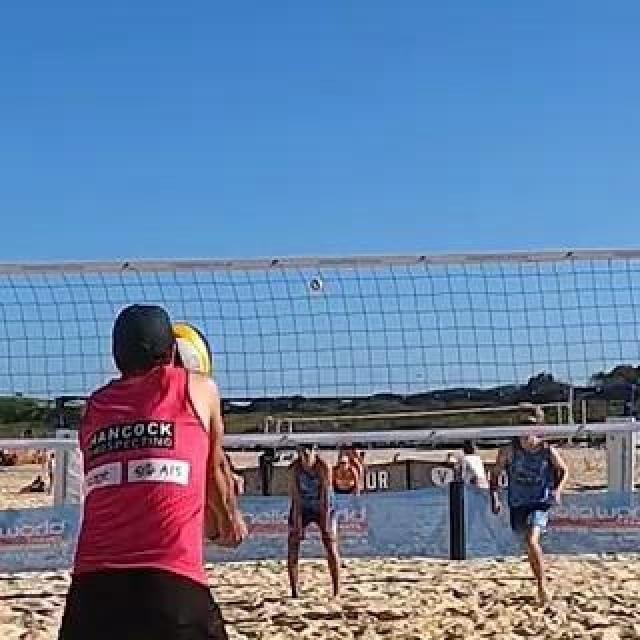volleyball: (145, 320, 215, 392), (310, 279, 322, 291)
